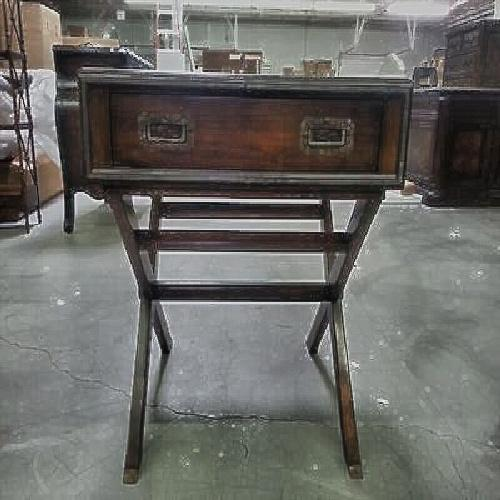table: (76, 57, 417, 446)
